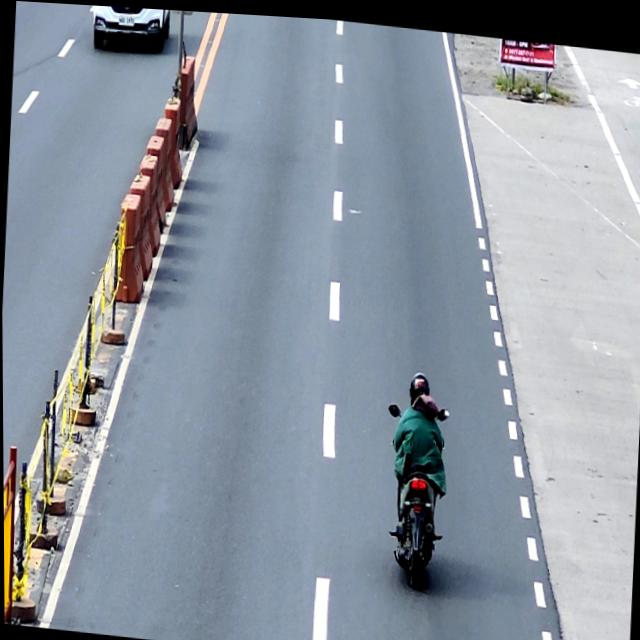Car: (86, 4, 171, 57)
License-Plate: (118, 13, 136, 25)
Motorcycle: (377, 395, 451, 587)
